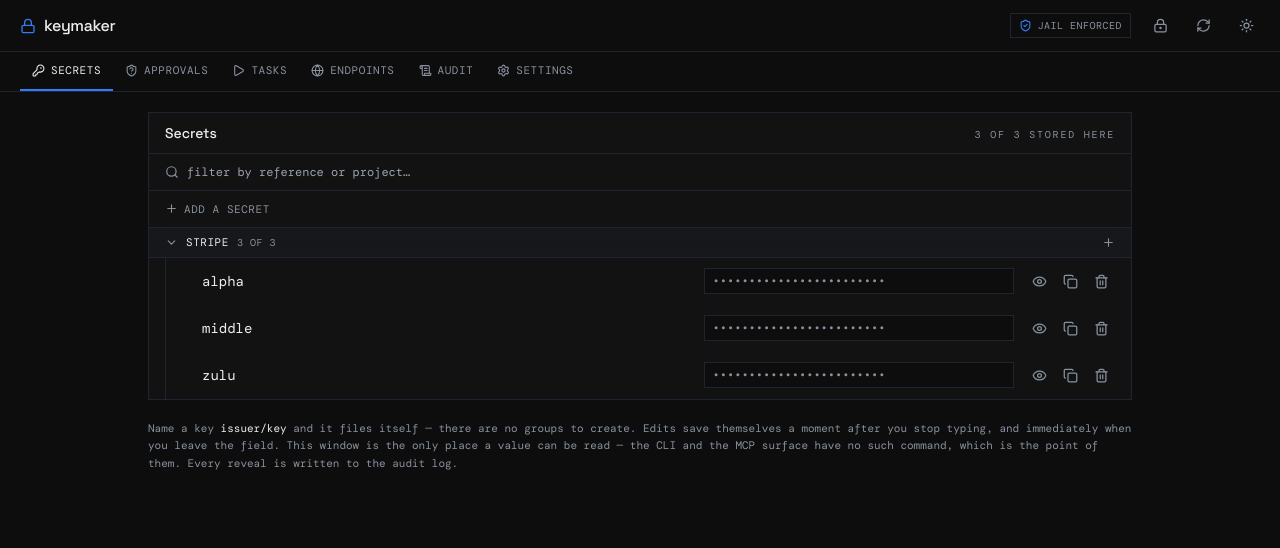
App entry flow › serializes duplicate-reference submissions and retains the newest draft
Check: the text "middle" is shown, box [202,318,252,338]
Click the button "add a secret".
click(217, 209)  # box [165,200,270,217]
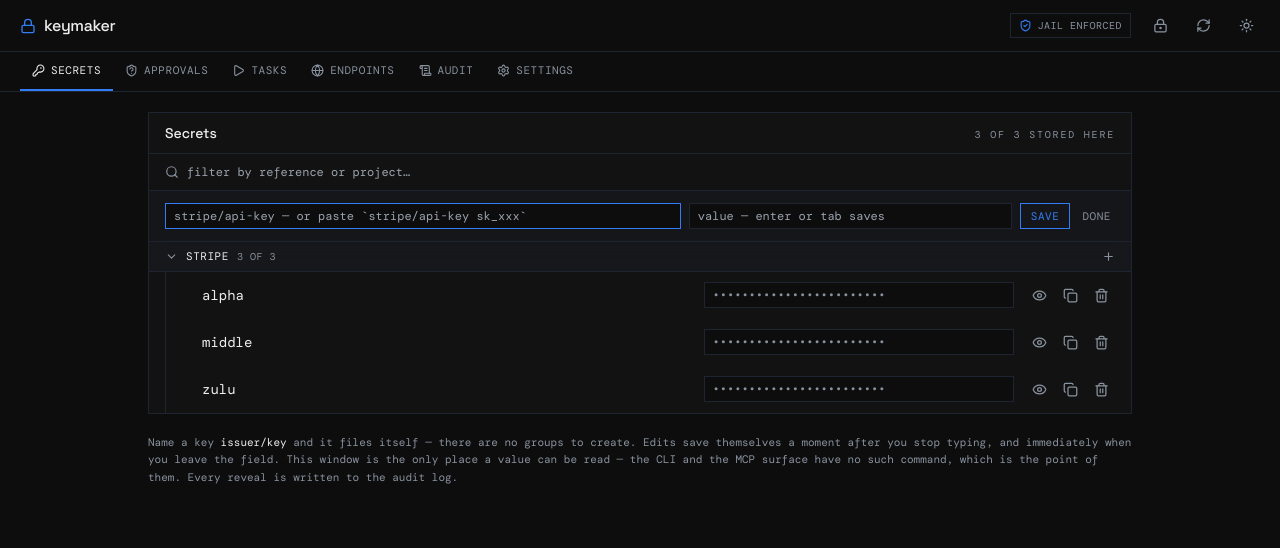
Type "stripe/test" into the field named "Reference".
click(423, 216); type("stripe/test")  # box [165,203,681,229]
Type "first" into the password field labelled "value".
click(850, 216); type("first")  # box [689,203,1012,229]
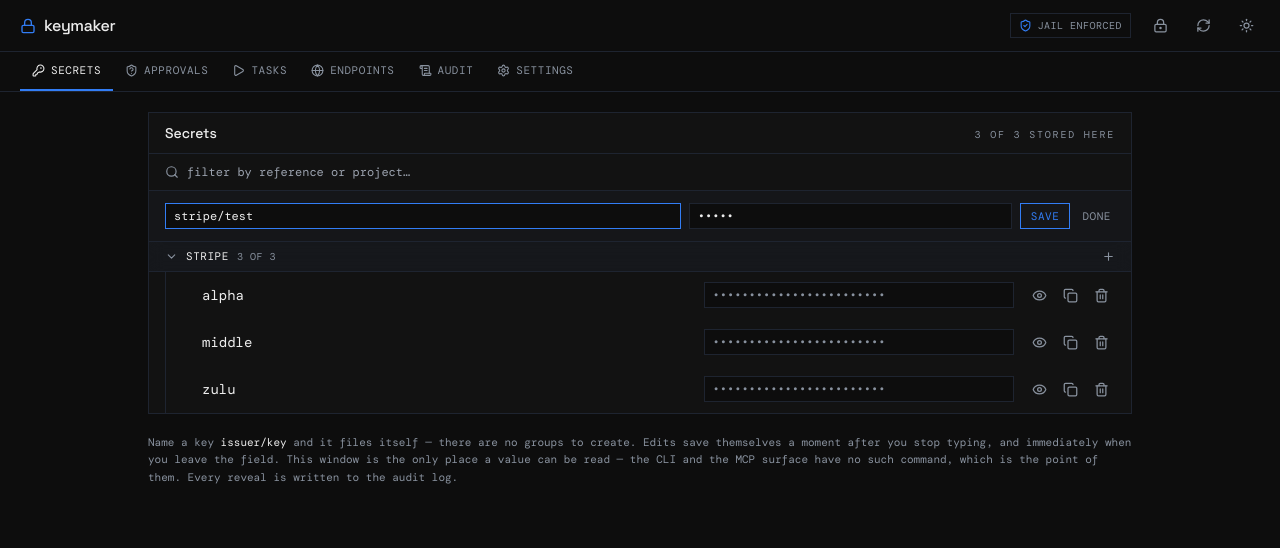
Press Enter in the password field named "value", box [689,203,1012,229]
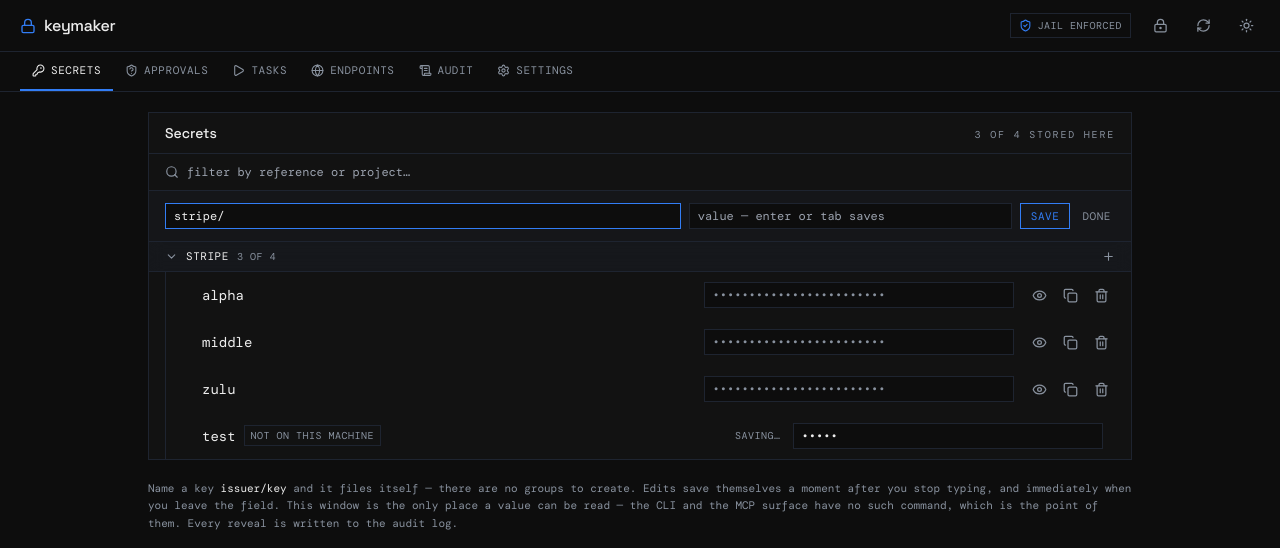
Replace the text in the field named "Reference" with "stripe/test" at (423, 216), box [165,203,681,229]
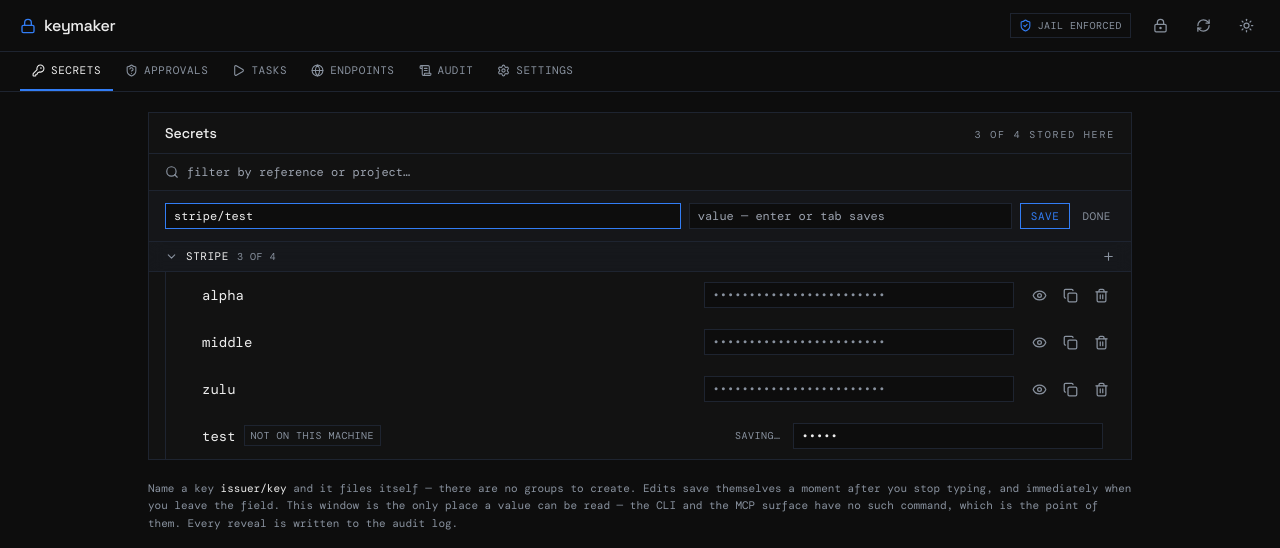
Type "second" into the password field labelled "value".
click(850, 216); type("second")  # box [689,203,1012,229]
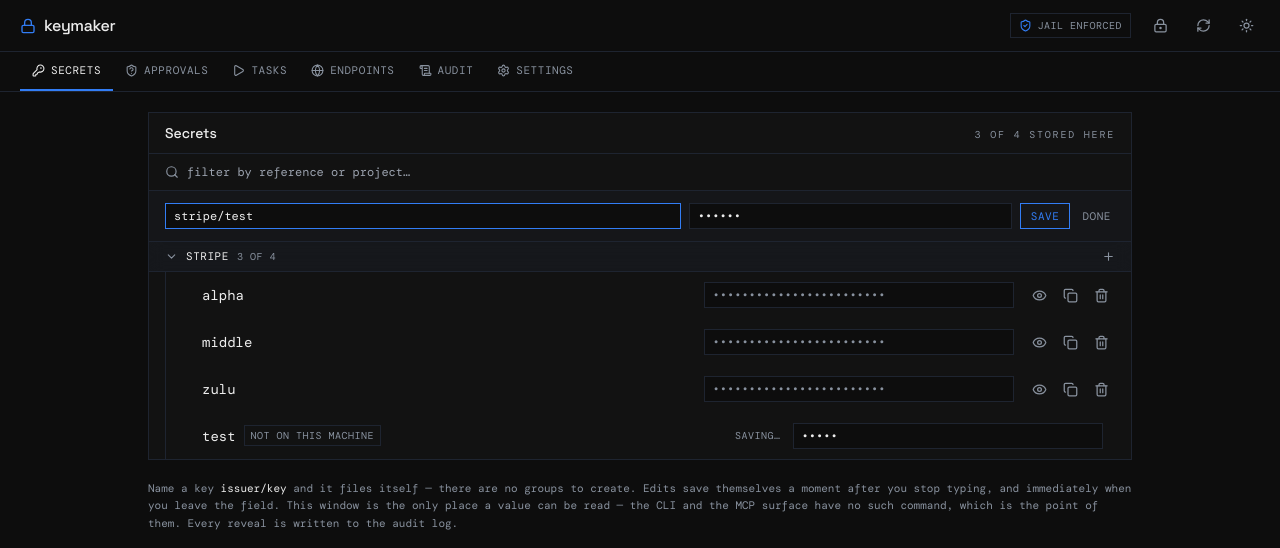
Press Enter in the password field named "value", box [689,203,1012,229]
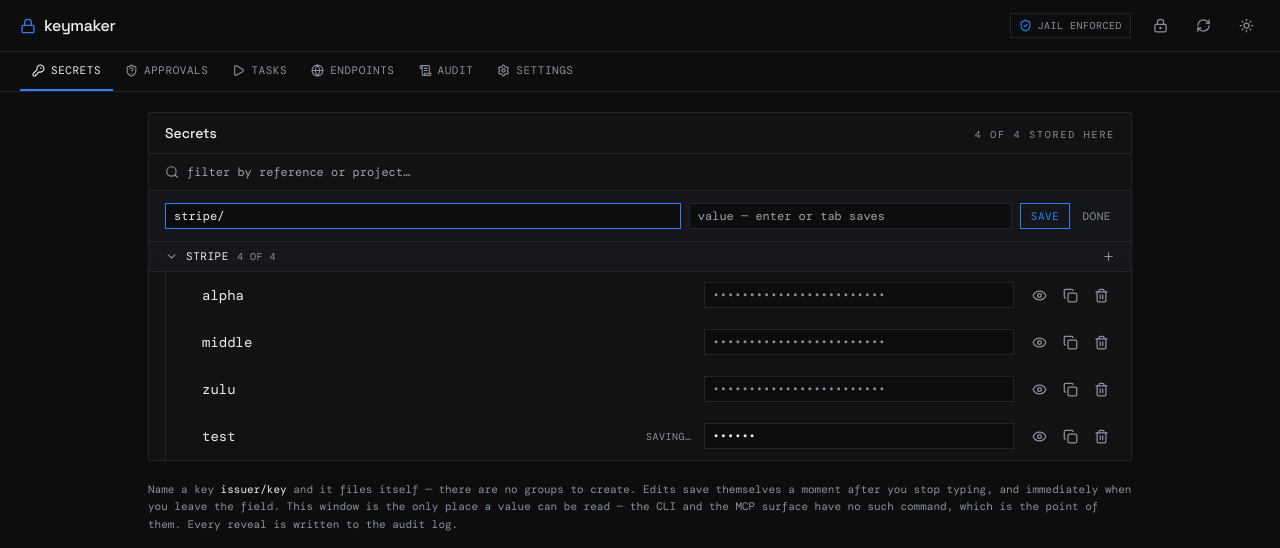
Check: the password field named "stripe/test, hidden" holds "second", box [704,423,1014,449]
